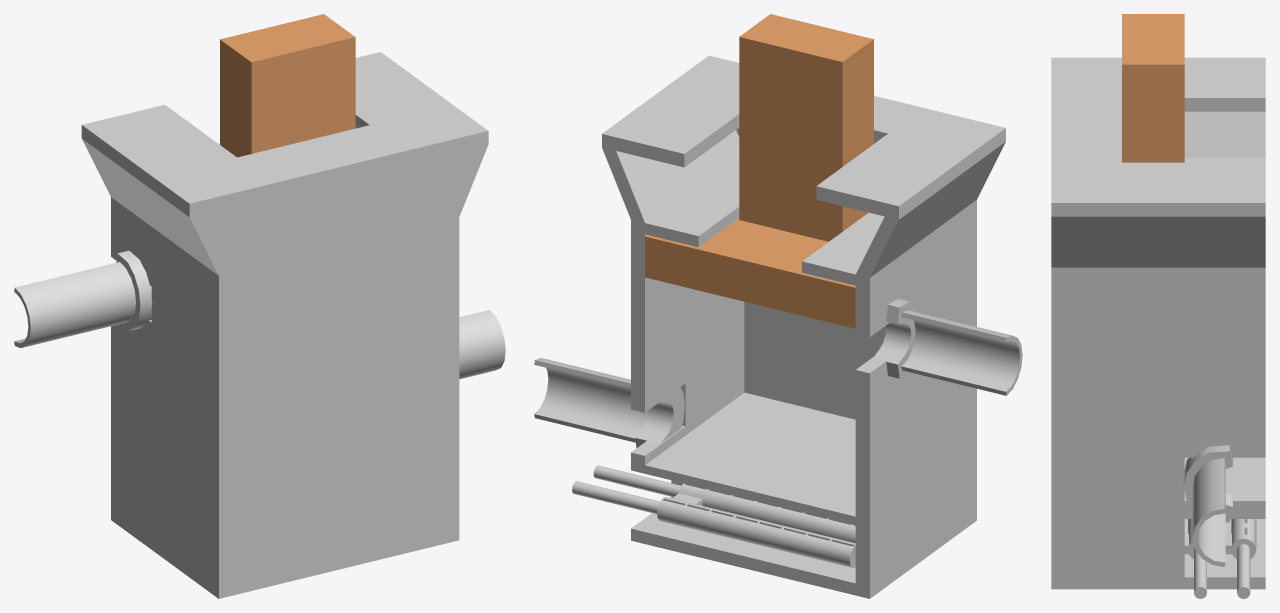
The model's file is SuperChargerREV0805 - 1.fbx.
The picture shows the model from 3 angles, left to right: view 1: azimuth 30°, elevation 25°; view 2: azimuth 150°, elevation 25°; view 3: azimuth 270°, elevation 25°; orthographic projection.
Visible parts, largest first — view 1: main body, PISTON, our source pipe, source pipe; view 2: main body, PISTON, gas source, our source pipe, source pipe; view 3: main body, PISTON, source pipe, gas source.
Boxes of the visible parts, <box> form: main body: <box>81,52,488,598</box>; PISTON: <box>220,14,355,157</box>; our source pipe: <box>14,250,152,347</box>; source pipe: <box>459,310,505,379</box>; main body: <box>602,55,1005,598</box>; PISTON: <box>645,14,873,328</box>; gas source: <box>572,465,855,568</box>; our source pipe: <box>873,298,1022,395</box>; source pipe: <box>534,358,684,448</box>; main body: <box>1051,57,1265,589</box>; PISTON: <box>1122,14,1184,162</box>; source pipe: <box>1183,445,1232,566</box>; gas source: <box>1184,519,1256,598</box>.
Bounding box in the file's own units: 4081 × 4055 × 1604.
